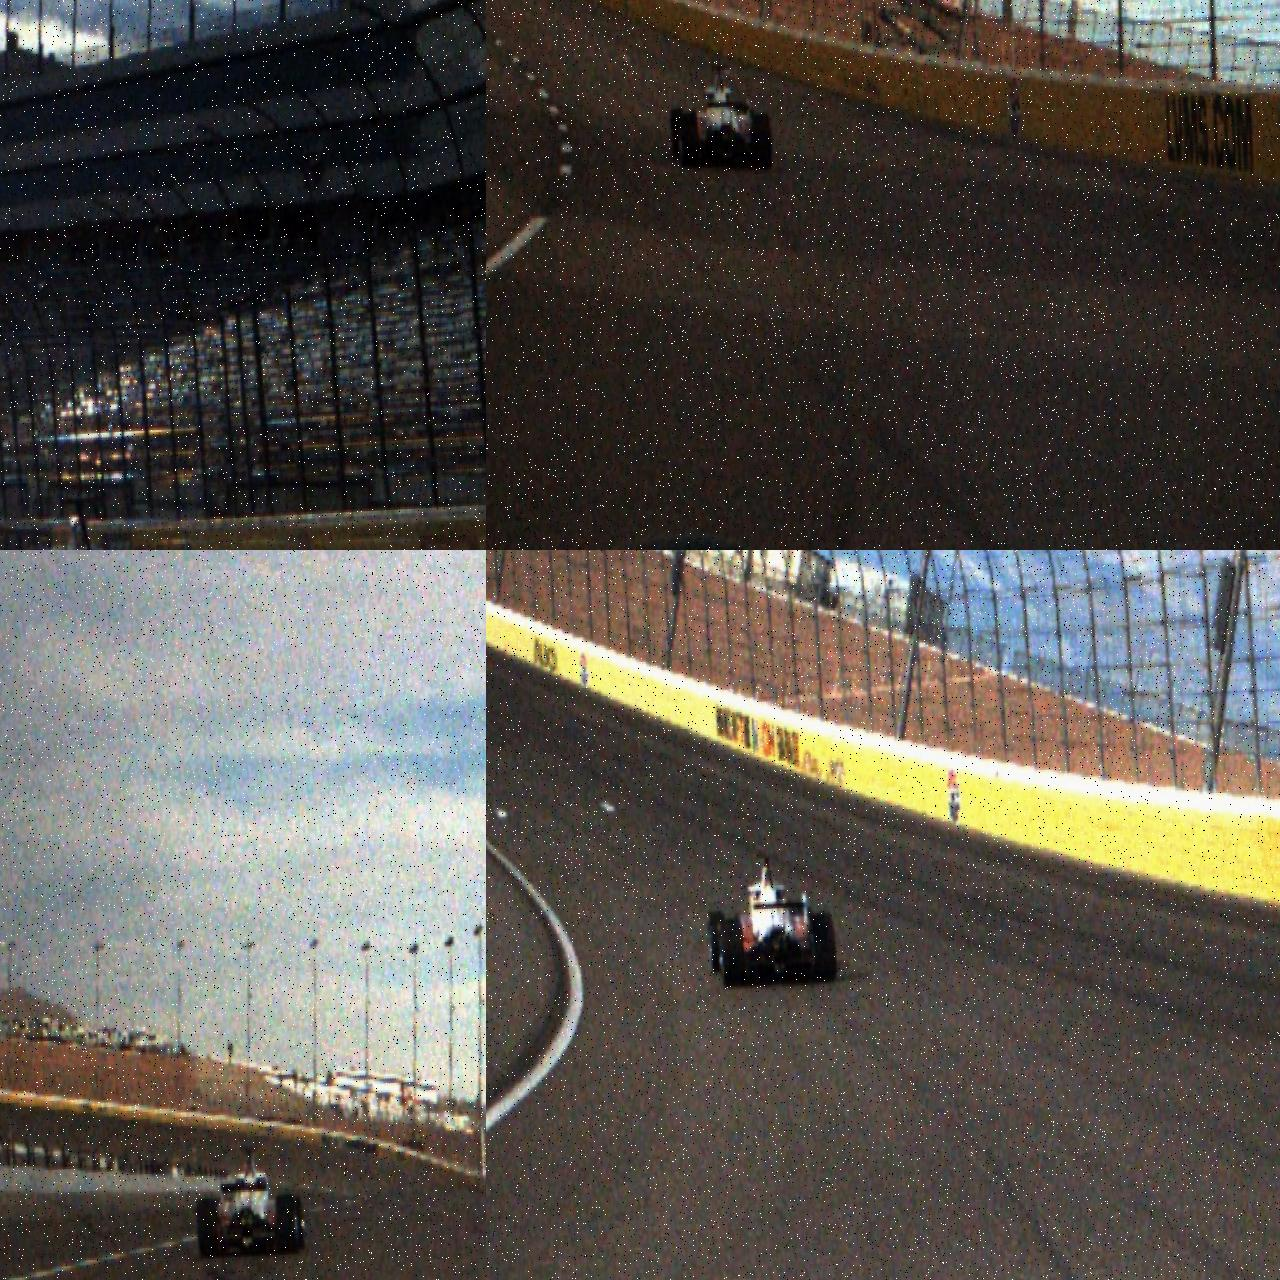AV: (703, 847, 837, 989), (192, 1143, 306, 1259), (0, 489, 207, 550), (663, 60, 772, 175)
Wheel: (810, 912, 837, 983), (719, 917, 744, 988), (195, 1198, 222, 1259), (275, 1192, 298, 1254), (707, 911, 728, 974), (751, 111, 772, 170), (678, 113, 699, 169), (667, 107, 686, 161)
